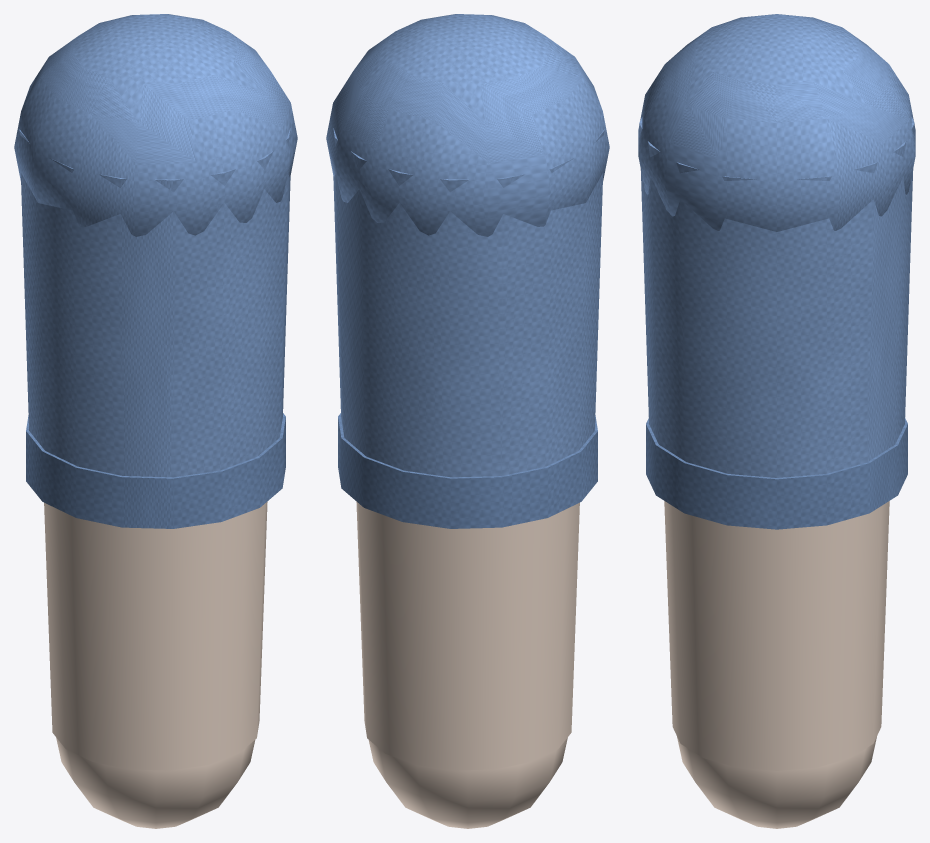
The model's file is person_uarm.glb.
3 views of the same model, side by side, from view 1: azimuth 30°, elevation 25°; view 2: azimuth 150°, elevation 25°; view 3: azimuth 270°, elevation 25° (orthographic).
Visible parts, largest first — view 1: person_uarm_body; view 2: person_uarm_body; view 3: person_uarm_body.
Boxes of the visible parts, x1,y1,x2,y2 form: person_uarm_body: (14,14,297,828); person_uarm_body: (326,14,609,828); person_uarm_body: (638,14,915,828).
Bounding box in the file's own units: 0.128 × 0.3936 × 0.1248.
Materials: 3 (2 with a texture image).
